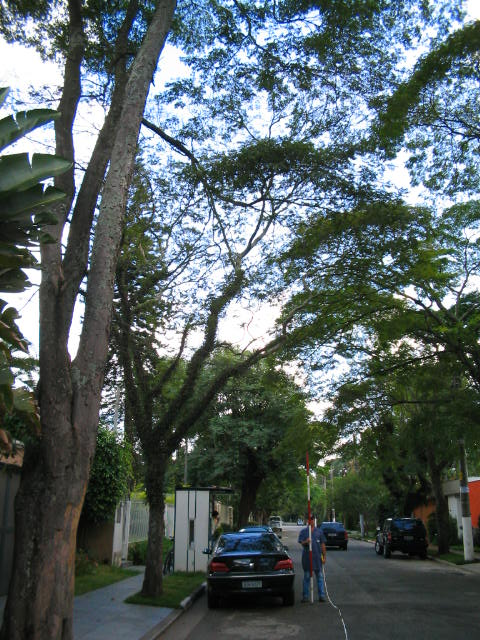crown: (117, 143, 458, 388)
stem: (132, 464, 174, 599)
stick: (300, 450, 318, 604)
tree: (116, 140, 462, 601)
